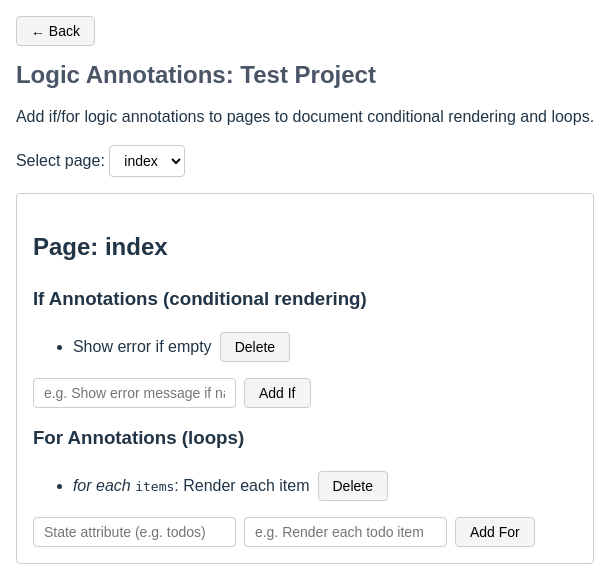
LogicAnnotations deletes an if annotation
Expected: the list item "Show error if empty Delete" is shown, [73, 332, 290, 362]
Click the button "Delete" next to "Show error if empty" at (255, 347), box [220, 332, 290, 362]
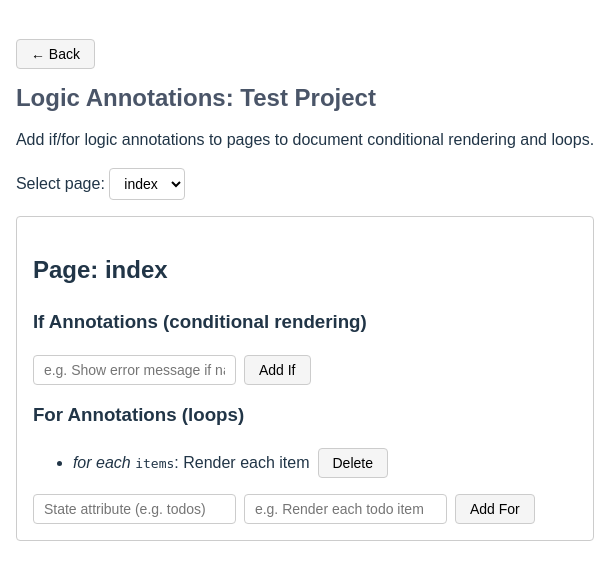
Expected: the list item "Show error if empty" is gone
